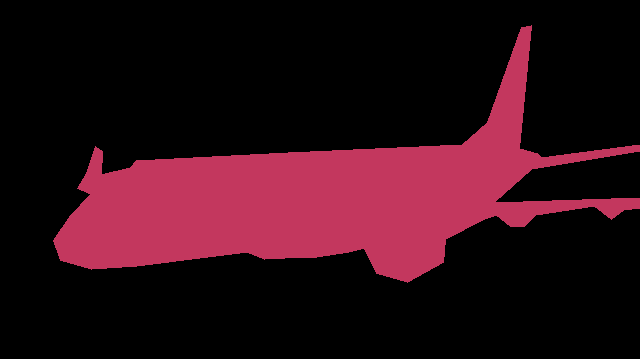Airplane: (53, 25, 640, 283)
